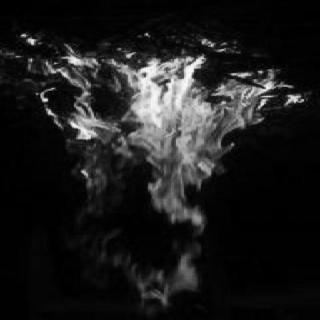Fire: (18, 36, 290, 316)
